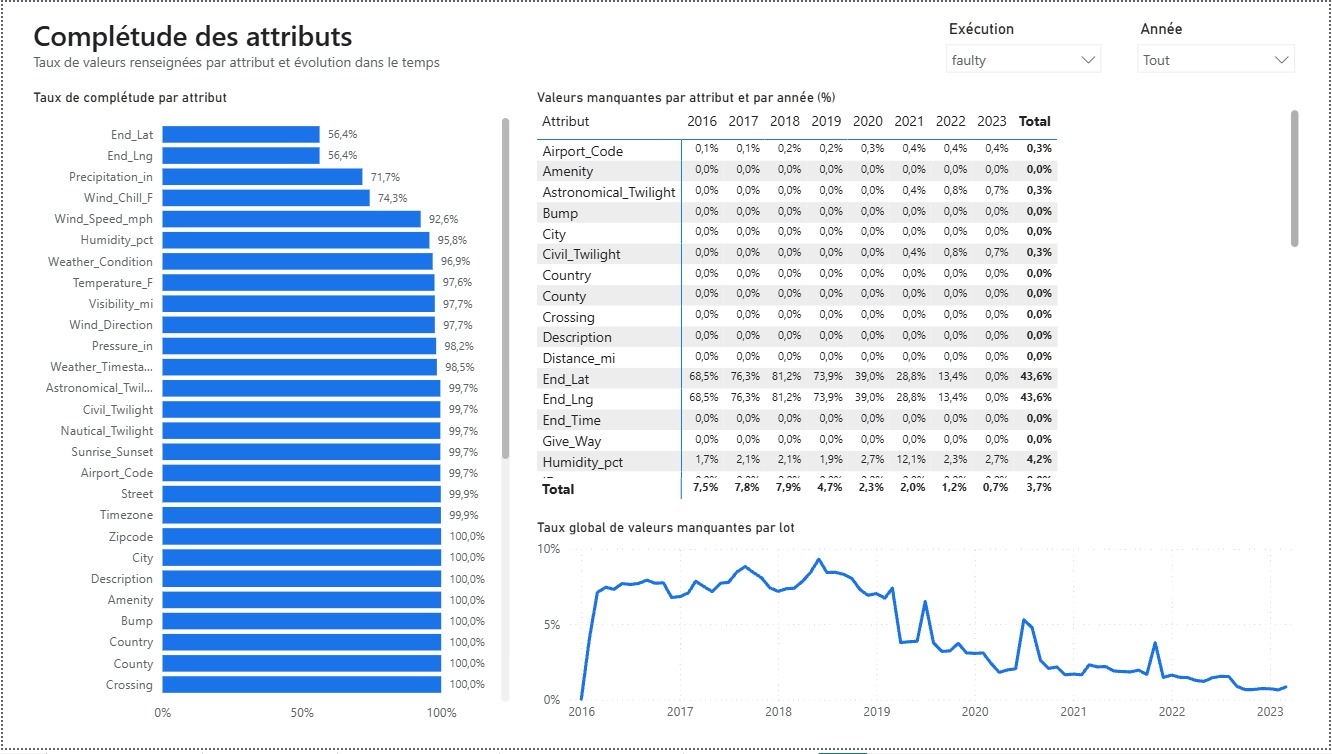

Layout of this report page (visuals, bound fields, positions):
{"tool":"powerbi","page":{"name":"Complétude","canvas":[1280,720],"ordinal":1},"visuals":[{"type":"textbox","box":[24,8,860,64],"z":2000},{"type":"slicer","fields":{"Values":["dim_run.run_id"]},"box":[900,12,170,58],"z":3000},{"type":"slicer","fields":{"Values":["dim_batch.Annee"]},"box":[1084,12,172,58],"z":4000},{"type":"clusteredBarChart","title":"Taux de complétude par attribut","fields":{"Category":["fact_column_completeness.column"],"Y":["_Mesures.Taux de complétude"]},"box":[24,84,470,620],"z":5000},{"type":"pivotTable","title":"Valeurs manquantes par attribut et par année (%)","fields":{"Rows":["fact_column_completeness.column"],"Columns":["dim_batch.Annee"],"Values":["_Mesures.Taux de valeurs manquantes"]},"box":[510,84,746,400],"z":6000},{"type":"lineChart","title":"Taux global de valeurs manquantes par lot","fields":{"Category":["dim_batch.Date"],"Y":["_Mesures.Taux de valeurs manquantes"]},"box":[510,500,746,204],"z":7000}]}

Visuals, with their boxes in screenshot pixels (x1, y1, x2, y2), scaled from the page's 1280x720 canvas onto the 1332x754 screenshot:
textbox: (x1=25, y1=8, x2=920, y2=75)
slicer - dim_run.run_id: (x1=937, y1=13, x2=1113, y2=73)
slicer - dim_batch.Annee: (x1=1128, y1=13, x2=1307, y2=73)
"Taux de complétude par attribut" clusteredBarChart: (x1=25, y1=88, x2=514, y2=737)
"Valeurs manquantes par attribut et par année (%)" pivotTable: (x1=531, y1=88, x2=1307, y2=507)
"Taux global de valeurs manquantes par lot" lineChart: (x1=531, y1=524, x2=1307, y2=737)
